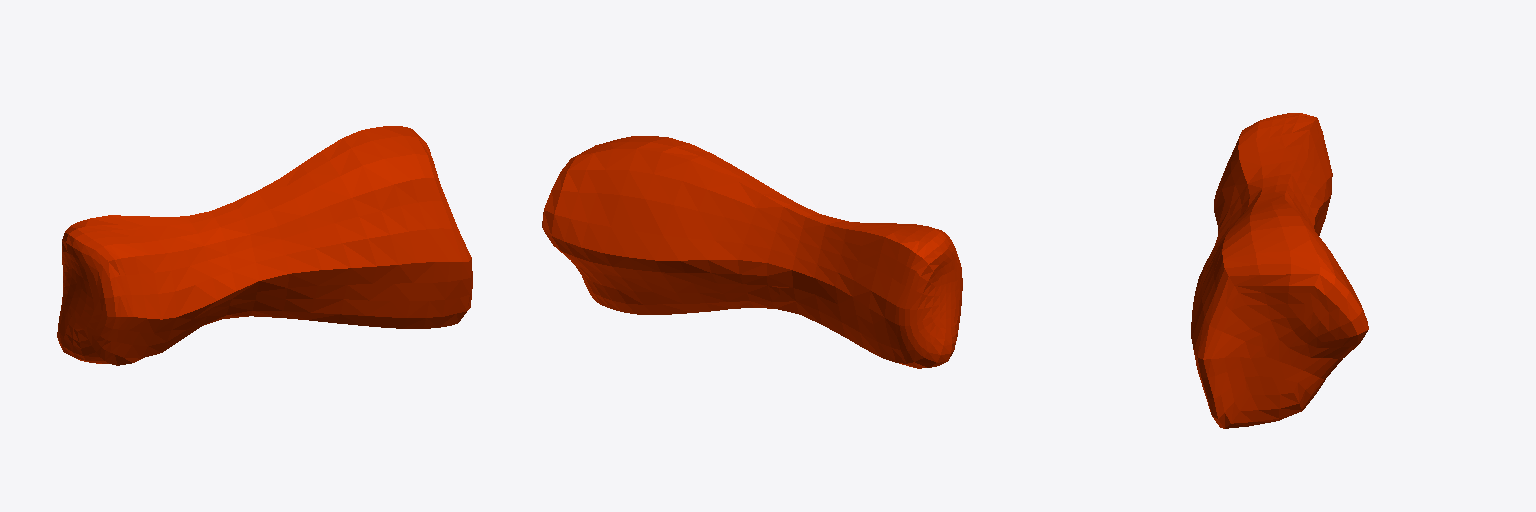
The model's file is R_L_Arm.obj.
The picture shows the model from 3 angles: view 1: azimuth 30°, elevation 25°; view 2: azimuth 150°, elevation 25°; view 3: azimuth 270°, elevation 25°; orthographic projection.
Visible parts, largest first — view 1: R_L_Arm_Alpha_Surface.031; view 2: R_L_Arm_Alpha_Surface.031; view 3: R_L_Arm_Alpha_Surface.031.
Part boxes in pixels (x1,y1,x2,y2): R_L_Arm_Alpha_Surface.031: (57, 126, 472, 365); R_L_Arm_Alpha_Surface.031: (542, 136, 962, 368); R_L_Arm_Alpha_Surface.031: (1191, 113, 1368, 428).
Size of the model in its own units: 0.2675 by 0.119 by 0.1091.